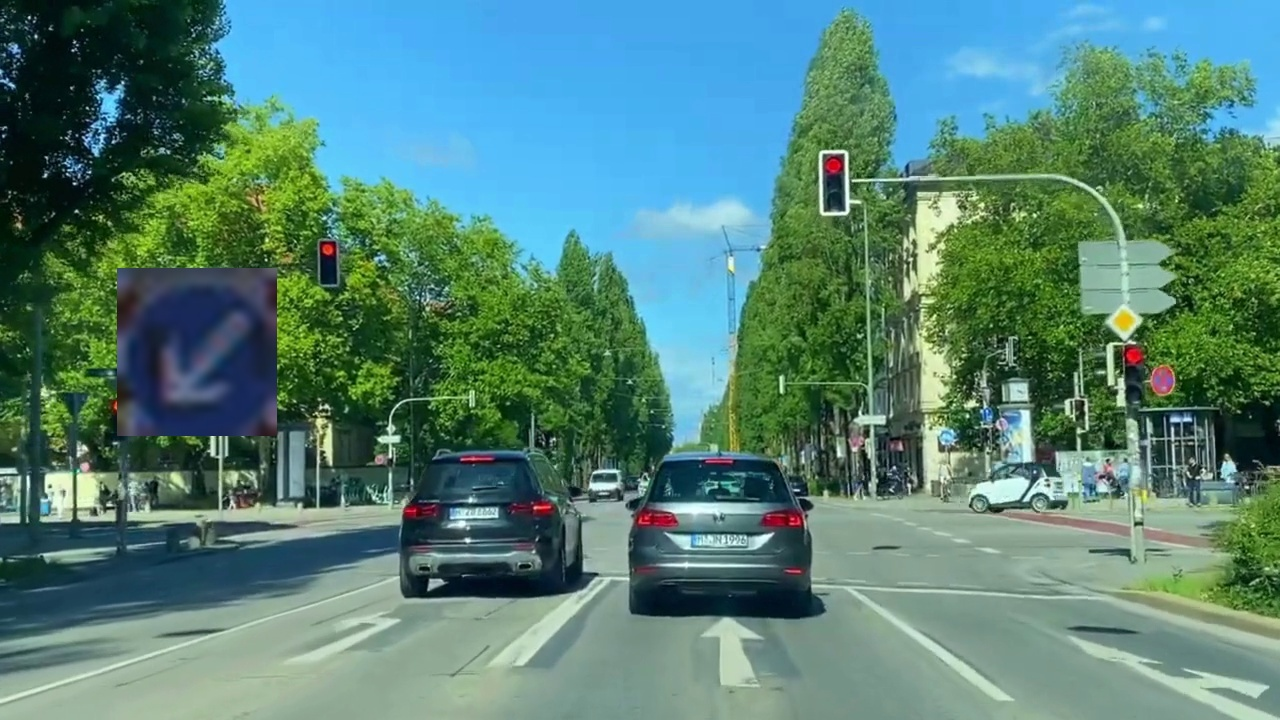Keep left: (117, 268, 277, 436)
